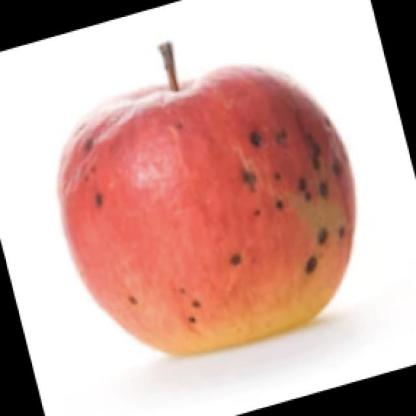defect: (228, 118, 344, 300), (106, 259, 208, 341), (70, 118, 132, 220)
